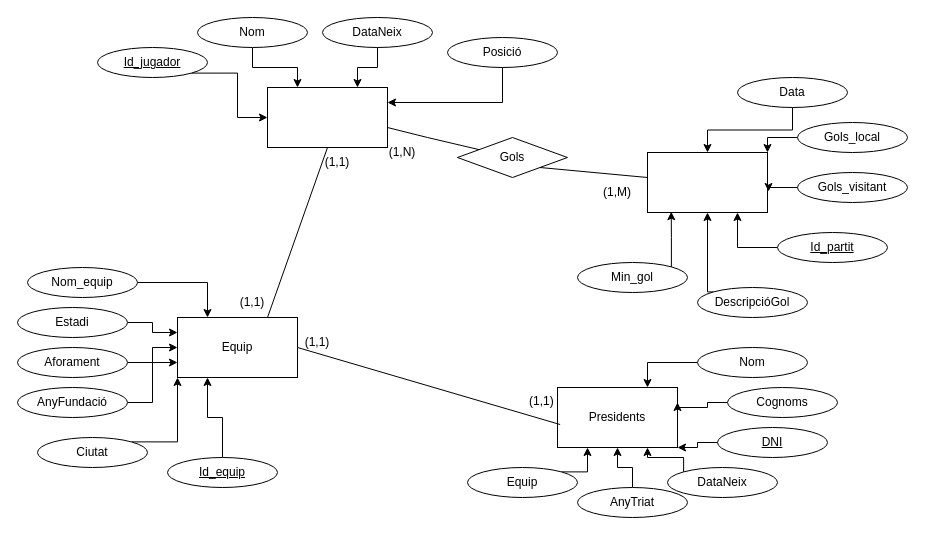
Image size: 925x535. Some labels were removed from this diagram. The shapes that lost their labels are listed below. From the top down, each one's centre as x and y in pixels, then its label:
[327,117]: Jugador
[707,182]: Partit
